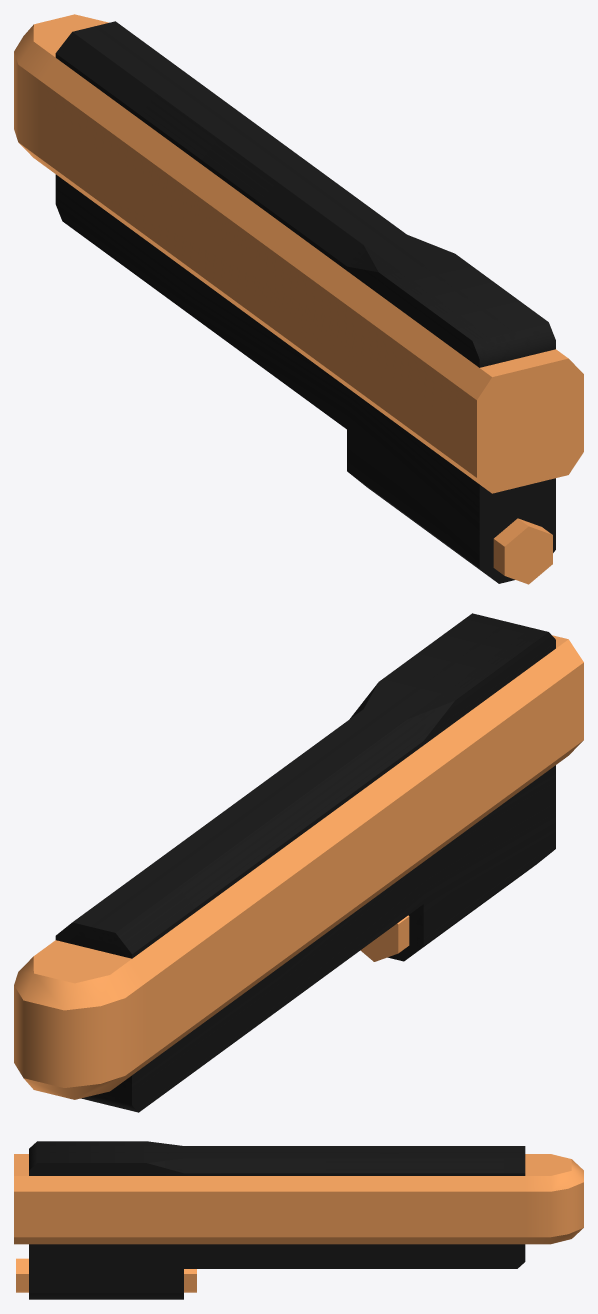
File: YK_Rifle_Body.obj
3 renders of one model, top to bottom at view 1: azimuth 30°, elevation 25°; view 2: azimuth 150°, elevation 25°; view 3: azimuth 270°, elevation 25°, orthographic. The views are drawn at different scales.
Visible parts, largest first — view 1: Cube.001_Cube.002; view 2: Cube.001_Cube.002; view 3: Cube.001_Cube.002.
Part boxes in pixels (box(x1,y1,x2,y2)): Cube.001_Cube.002: box(14, 14, 583, 584); Cube.001_Cube.002: box(14, 613, 583, 1112); Cube.001_Cube.002: box(14, 1141, 583, 1299).
Size of the model in its own units: 0.2323 by 0.5029 by 1.83.
